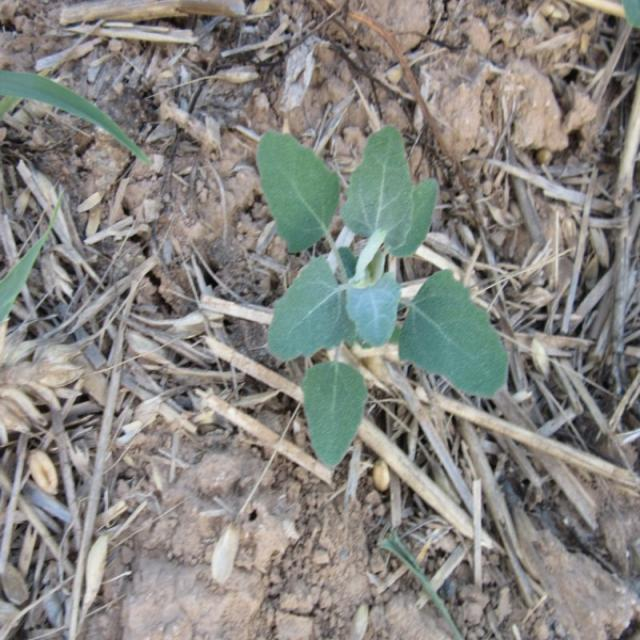ca: (256, 128, 510, 470)
